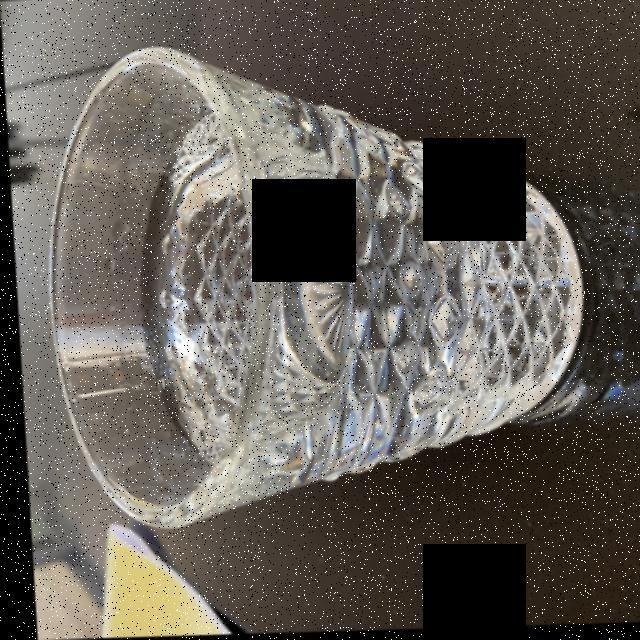water: (150, 99, 570, 486)
